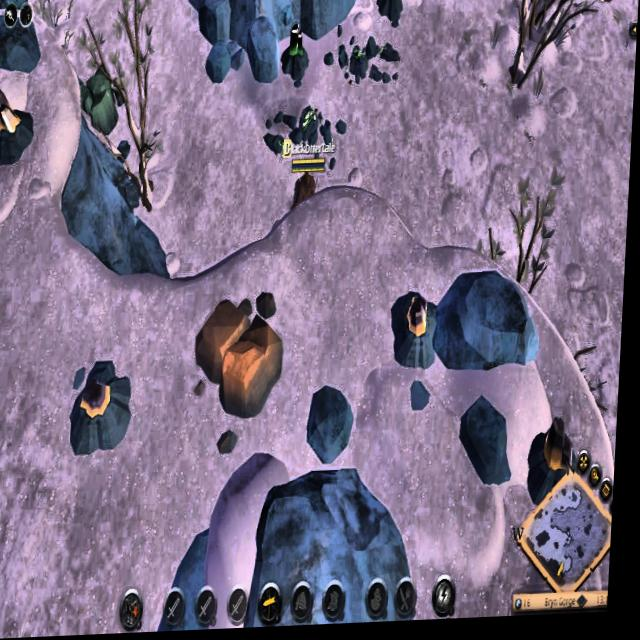copperore: (71, 360, 140, 457), (529, 414, 585, 511), (387, 290, 444, 372), (0, 80, 39, 171)
limestone: (193, 288, 291, 424)
sandstone: (75, 62, 130, 142)
tinore: (276, 23, 316, 87), (375, 0, 406, 30)
